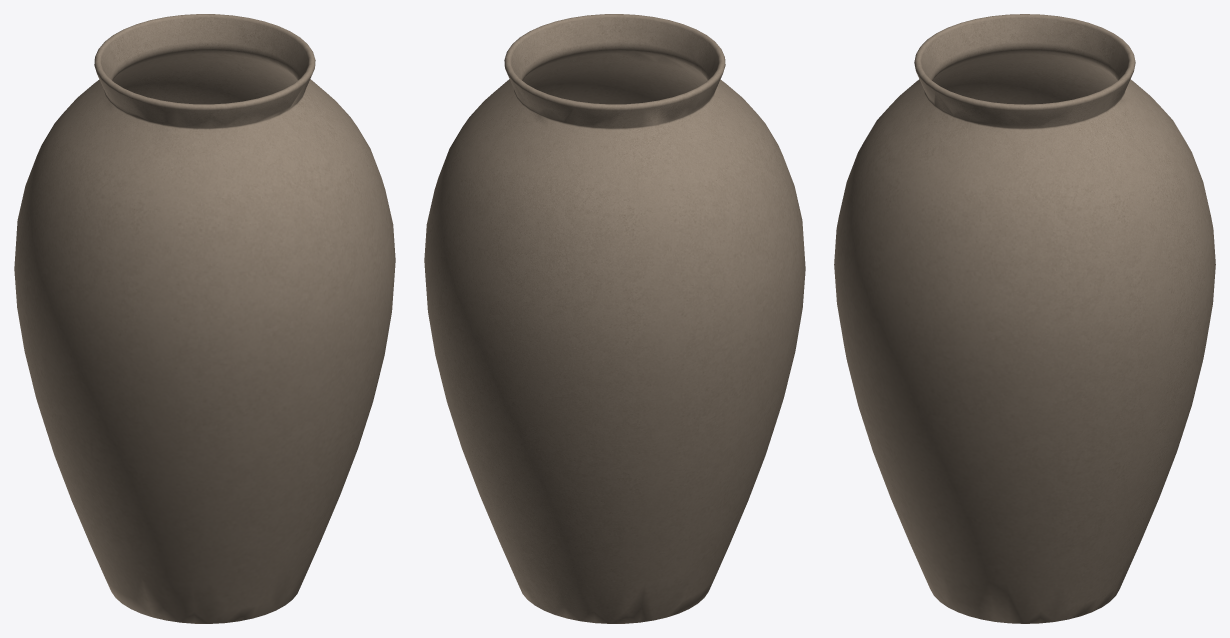
The model's file is anfora.glb.
The picture shows the model from 3 angles, left to right: view 1: azimuth 30°, elevation 25°; view 2: azimuth 150°, elevation 25°; view 3: azimuth 270°, elevation 25°; orthographic projection.
Parts seen in each view (by area): view 1: Catalina_Clay_Product_A; view 2: Catalina_Clay_Product_A; view 3: Catalina_Clay_Product_A.
Part boxes in pixels (<box>): Catalina_Clay_Product_A: <box>14,14,395,623</box>; Catalina_Clay_Product_A: <box>424,14,805,623</box>; Catalina_Clay_Product_A: <box>834,14,1215,623</box>.
Size of the model in its own units: 0.825 by 1.25 by 0.825.
Materials: 1 (1 with a texture image).
